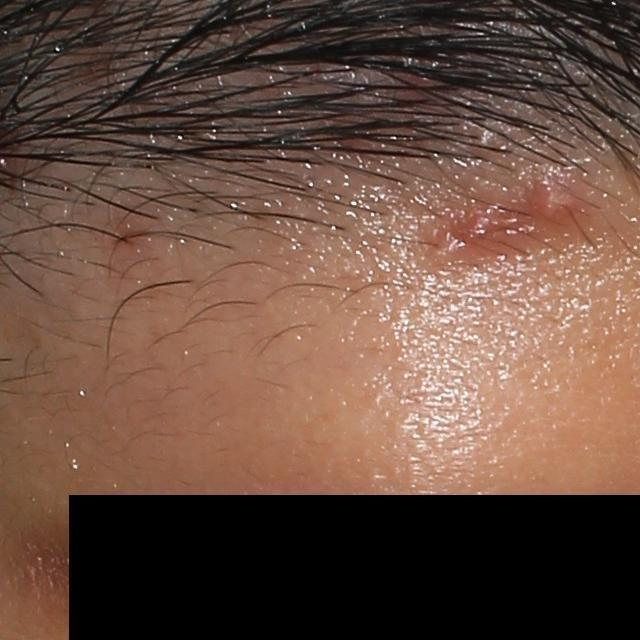pustule: (420, 198, 530, 266), (537, 176, 580, 229)
